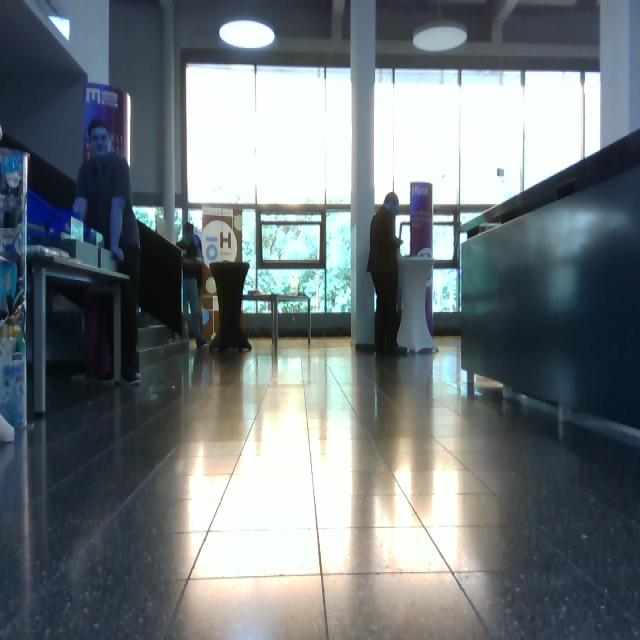door: (257, 210, 326, 316)
light bulb: (219, 19, 276, 51), (413, 21, 468, 53), (49, 14, 70, 41), (5, 170, 21, 189)
person: (73, 119, 142, 387), (367, 192, 408, 356), (176, 222, 207, 348)
pillar: (350, 1, 377, 350), (410, 181, 435, 338)
table: (28, 248, 133, 418), (207, 259, 254, 359)
tiled floor: (2, 332, 639, 638)
